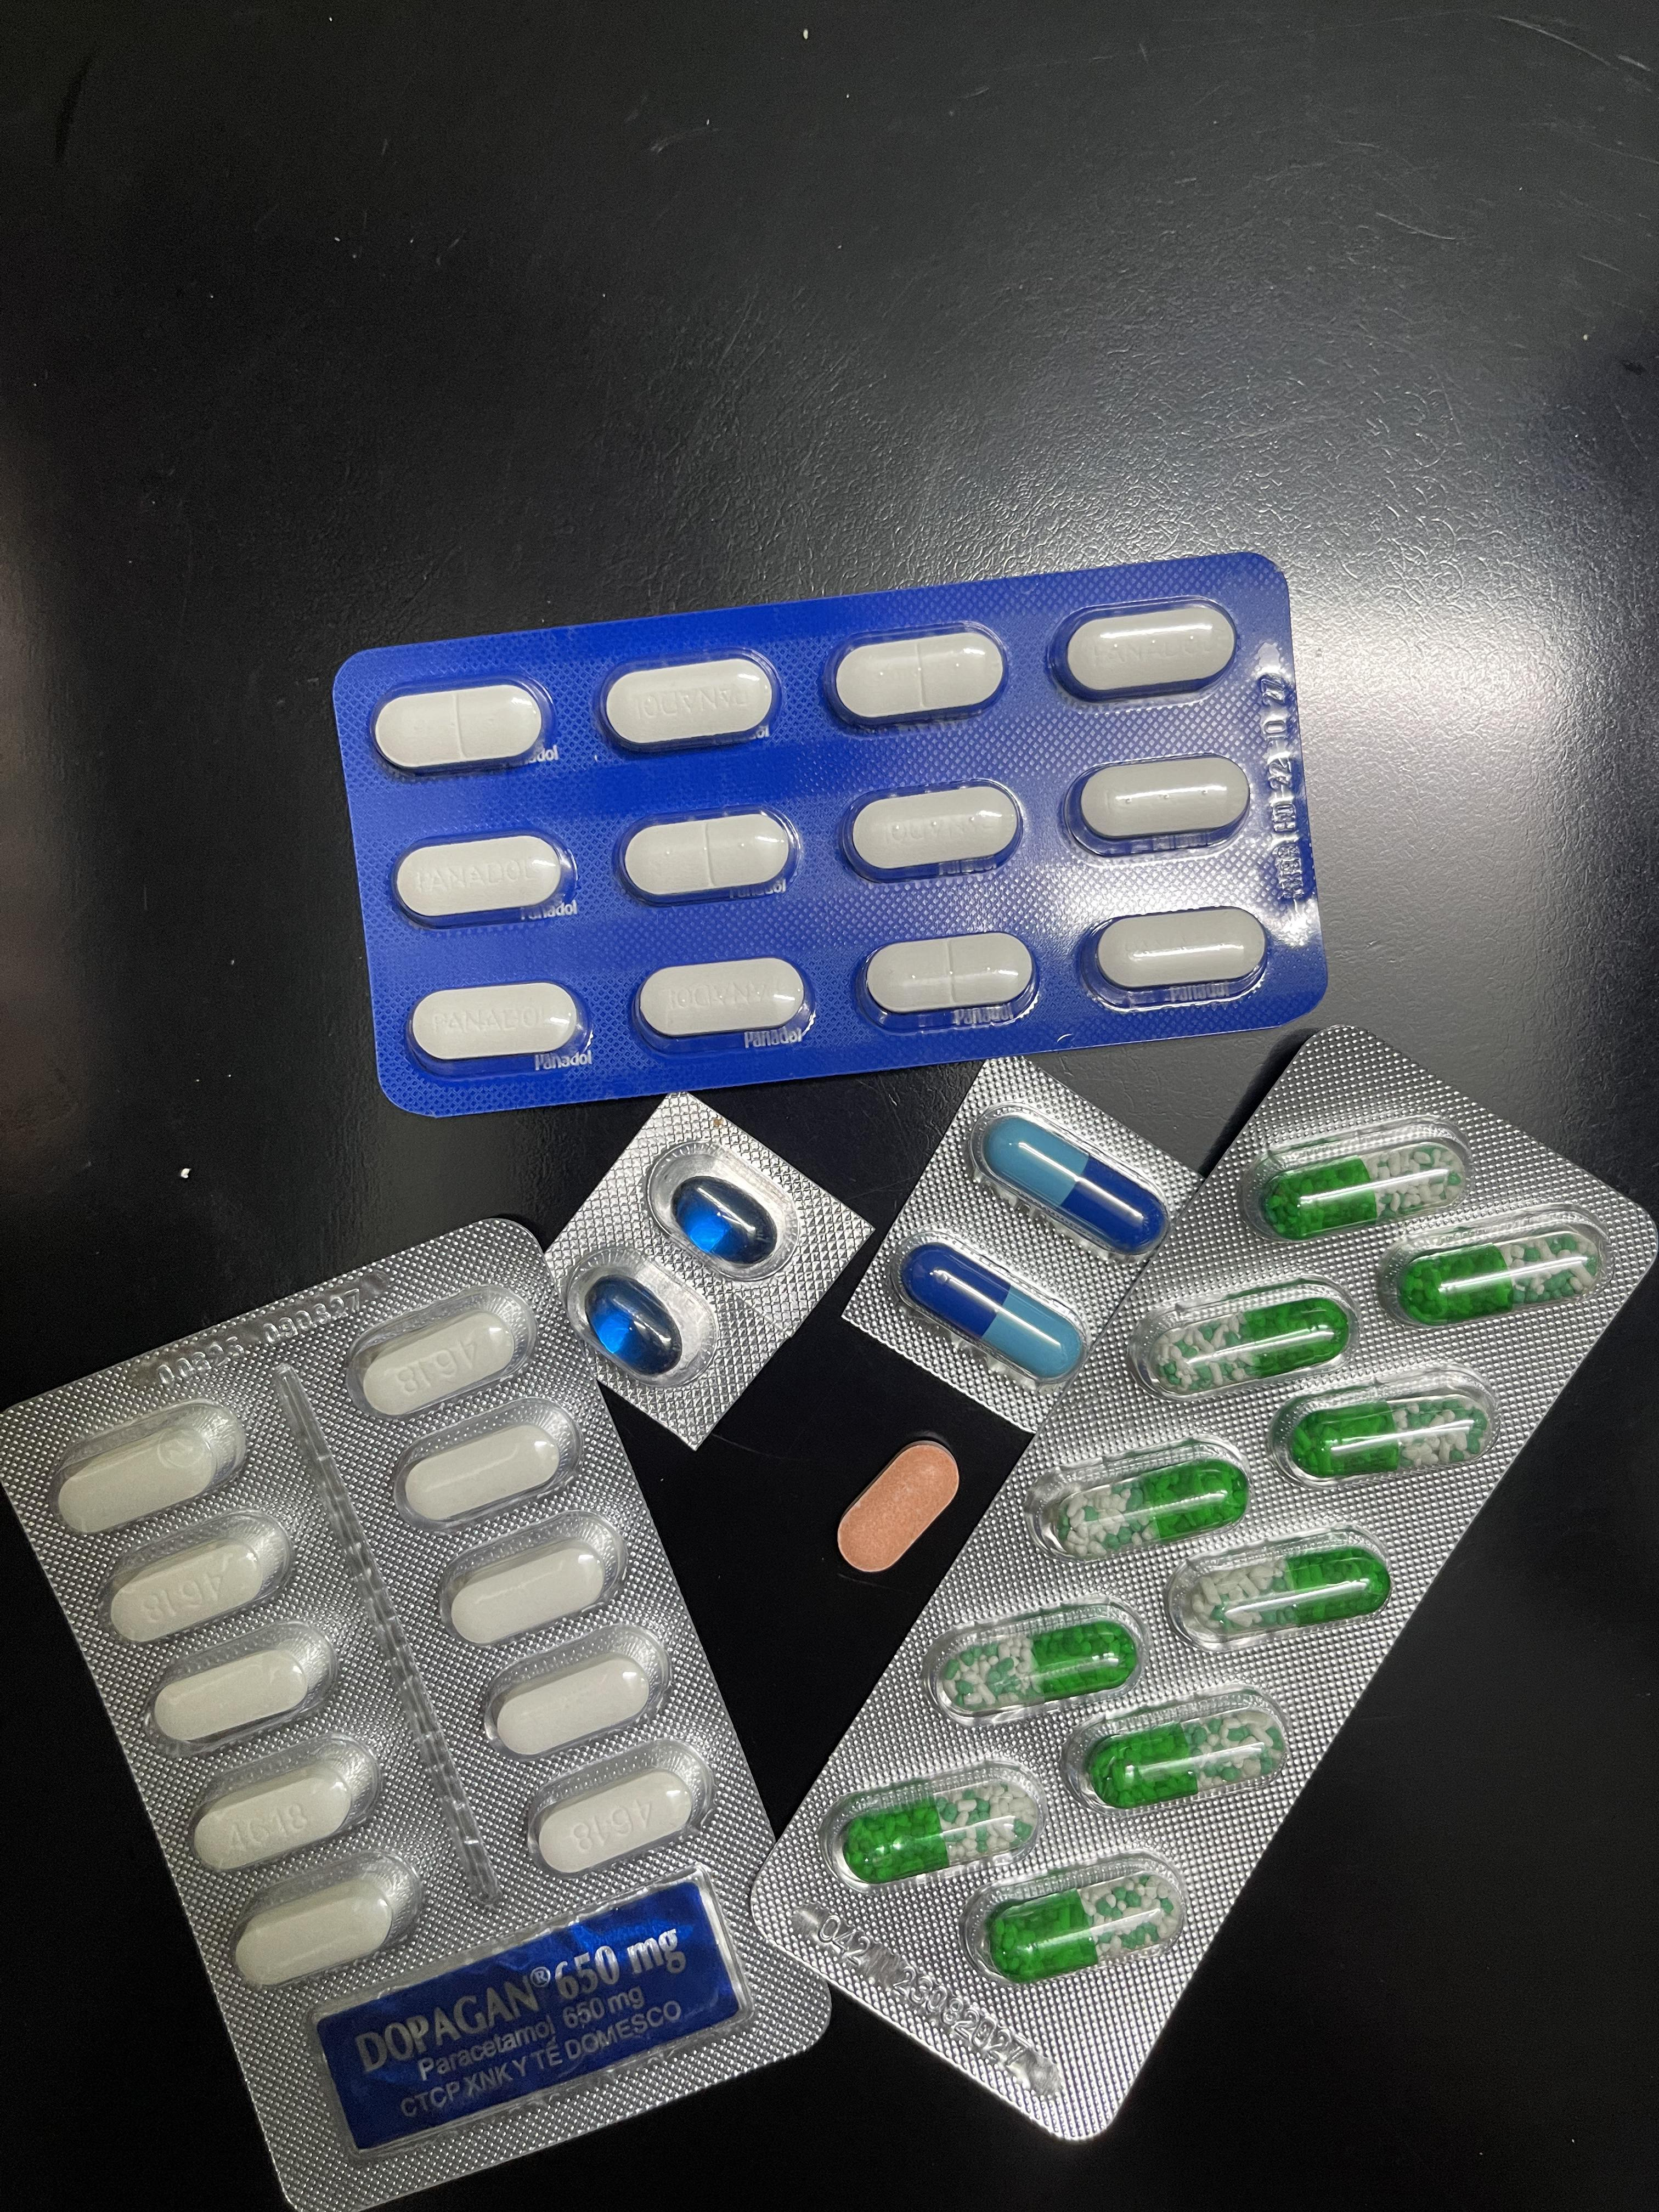Lincomyxin_500mg: (583, 1276, 684, 1374), (674, 1178, 777, 1266)
Loratadine_10mg: (839, 1441, 957, 1573)
Paracetamol_350mg: (1051, 598, 1239, 706), (828, 626, 1009, 732), (600, 652, 781, 755), (1069, 755, 1254, 857), (394, 832, 579, 929), (845, 784, 1024, 882), (618, 808, 796, 906), (1090, 907, 1273, 1000), (635, 956, 814, 1051), (373, 681, 549, 777), (408, 981, 588, 1073), (862, 933, 1033, 1026)
Paracetamol_500mg: (182, 1725, 379, 1869), (231, 1852, 425, 1989), (52, 1398, 248, 1533), (145, 1612, 339, 1747), (526, 1740, 712, 1878), (100, 1514, 295, 1644), (440, 1513, 628, 1644), (483, 1624, 670, 1756), (350, 1285, 536, 1415), (394, 1400, 578, 1532)
Paracetamol_650mg: (1089, 1703, 1288, 1808), (1256, 1140, 1468, 1236), (841, 1782, 1037, 1884), (993, 1870, 1176, 1979), (1149, 1294, 1348, 1391), (1397, 1235, 1608, 1323), (1046, 1460, 1240, 1551), (952, 1620, 1137, 1707), (1193, 1554, 1386, 1637), (1291, 1401, 1487, 1479)
pill: (899, 1245, 1083, 1390), (979, 1121, 1164, 1257)
